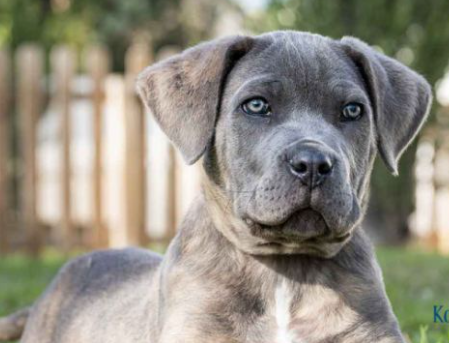dog: (0, 29, 434, 343)
